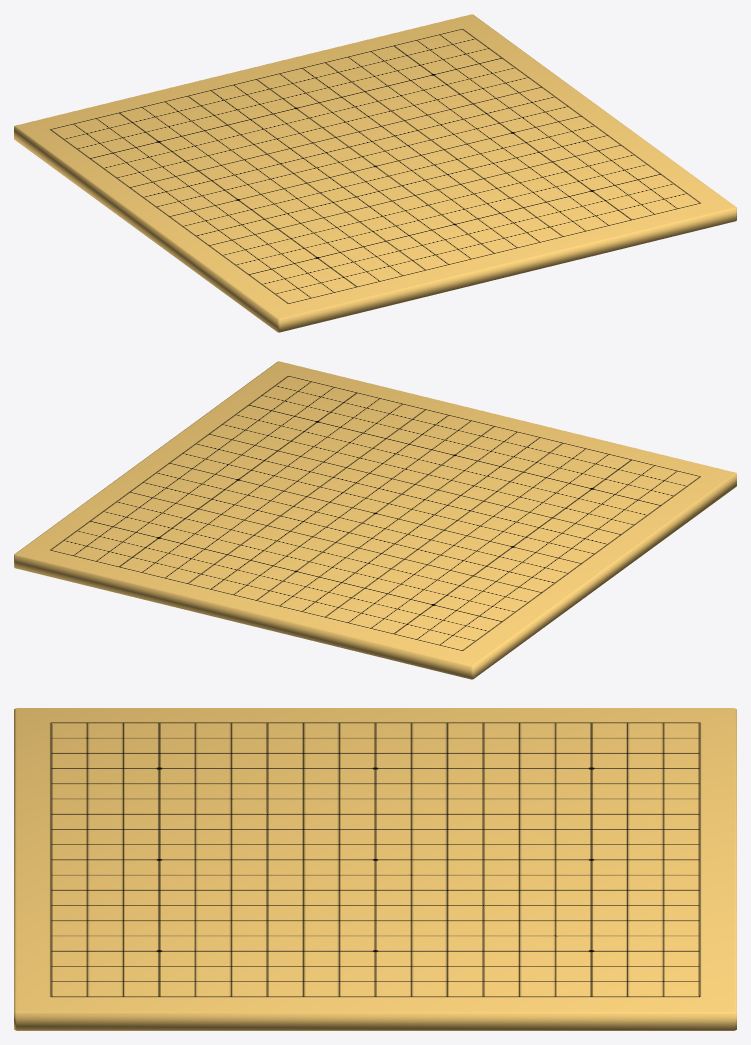
File: goban.gltf
3 views of the same model, one above another, from view 1: azimuth 30°, elevation 25°; view 2: azimuth 150°, elevation 25°; view 3: azimuth 270°, elevation 25° (orthographic). The views are drawn at different scales.
Visible parts, largest first — view 1: Cube; view 2: Cube; view 3: Cube.
Part boxes in pixels (bbox=[...]): Cube: bbox=[14, 14, 736, 332]; Cube: bbox=[14, 361, 736, 679]; Cube: bbox=[14, 708, 736, 1030].
Size of the model in its own units: 17 by 0.5 by 17.
Materials: 1 (1 with a texture image).
